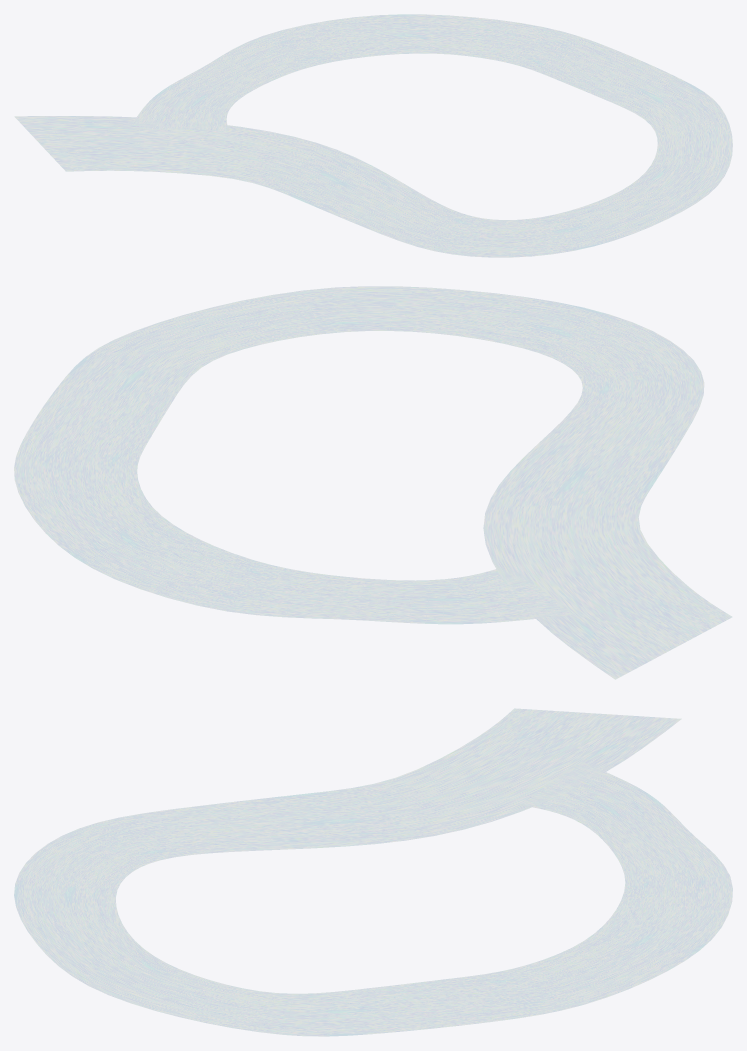
Rendered from heliu2.FBX.
The picture shows the model from 3 angles, top to bottom: view 1: azimuth 30°, elevation 25°; view 2: azimuth 150°, elevation 25°; view 3: azimuth 270°, elevation 25°; orthographic projection. The views are drawn at different scales.
Visible parts, largest first — view 1: Line001; view 2: Line001; view 3: Line001.
Part boxes in pixels (box(x1,y1,x2,y2)): Line001: box(14, 14, 732, 257); Line001: box(14, 286, 732, 679); Line001: box(14, 708, 732, 1036).
Size of the model in its own units: 27.64 by 7.25e-15 by 25.6.
1 material, 1 textured.
